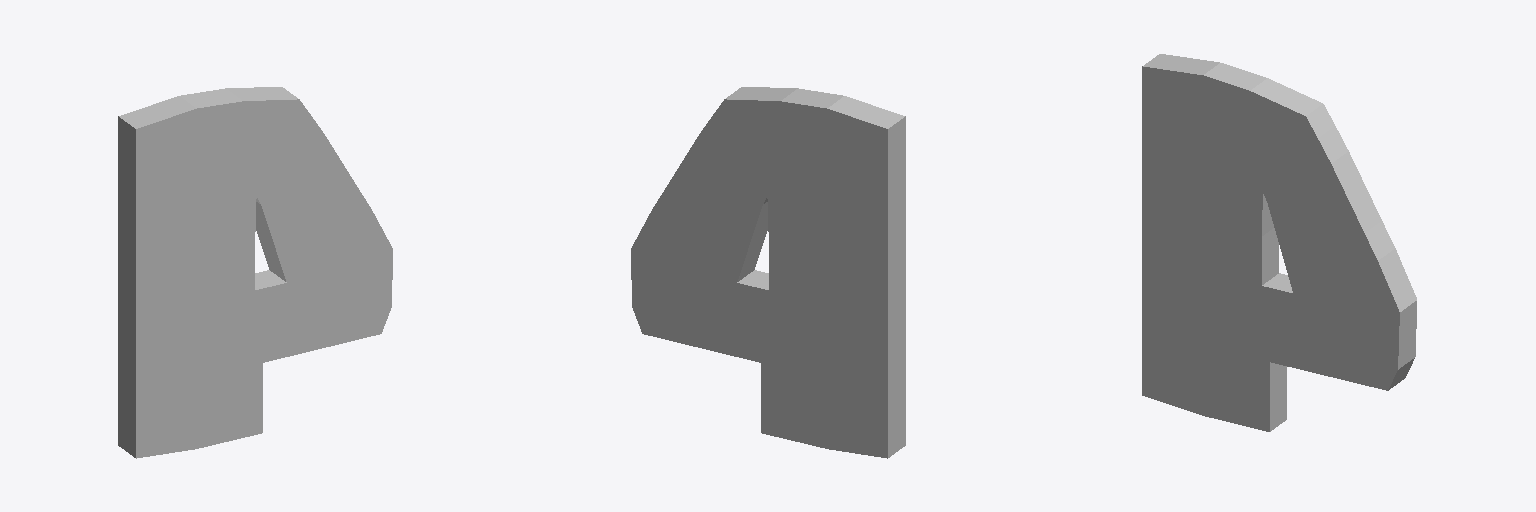
The model's file is number4.obj.
3 views of the same model, side by side, from view 1: azimuth 30°, elevation 25°; view 2: azimuth 150°, elevation 25°; view 3: azimuth 330°, elevation 25° (orthographic).
Visible parts, largest first — view 1: 4; view 2: 4; view 3: 4.
Boxes of the visible parts, <box> form: 4: <box>118,87,392,458</box>; 4: <box>631,87,905,458</box>; 4: <box>1142,54,1416,431</box>.
Size of the model in its own units: 1.7 by 2.14 by 0.2.